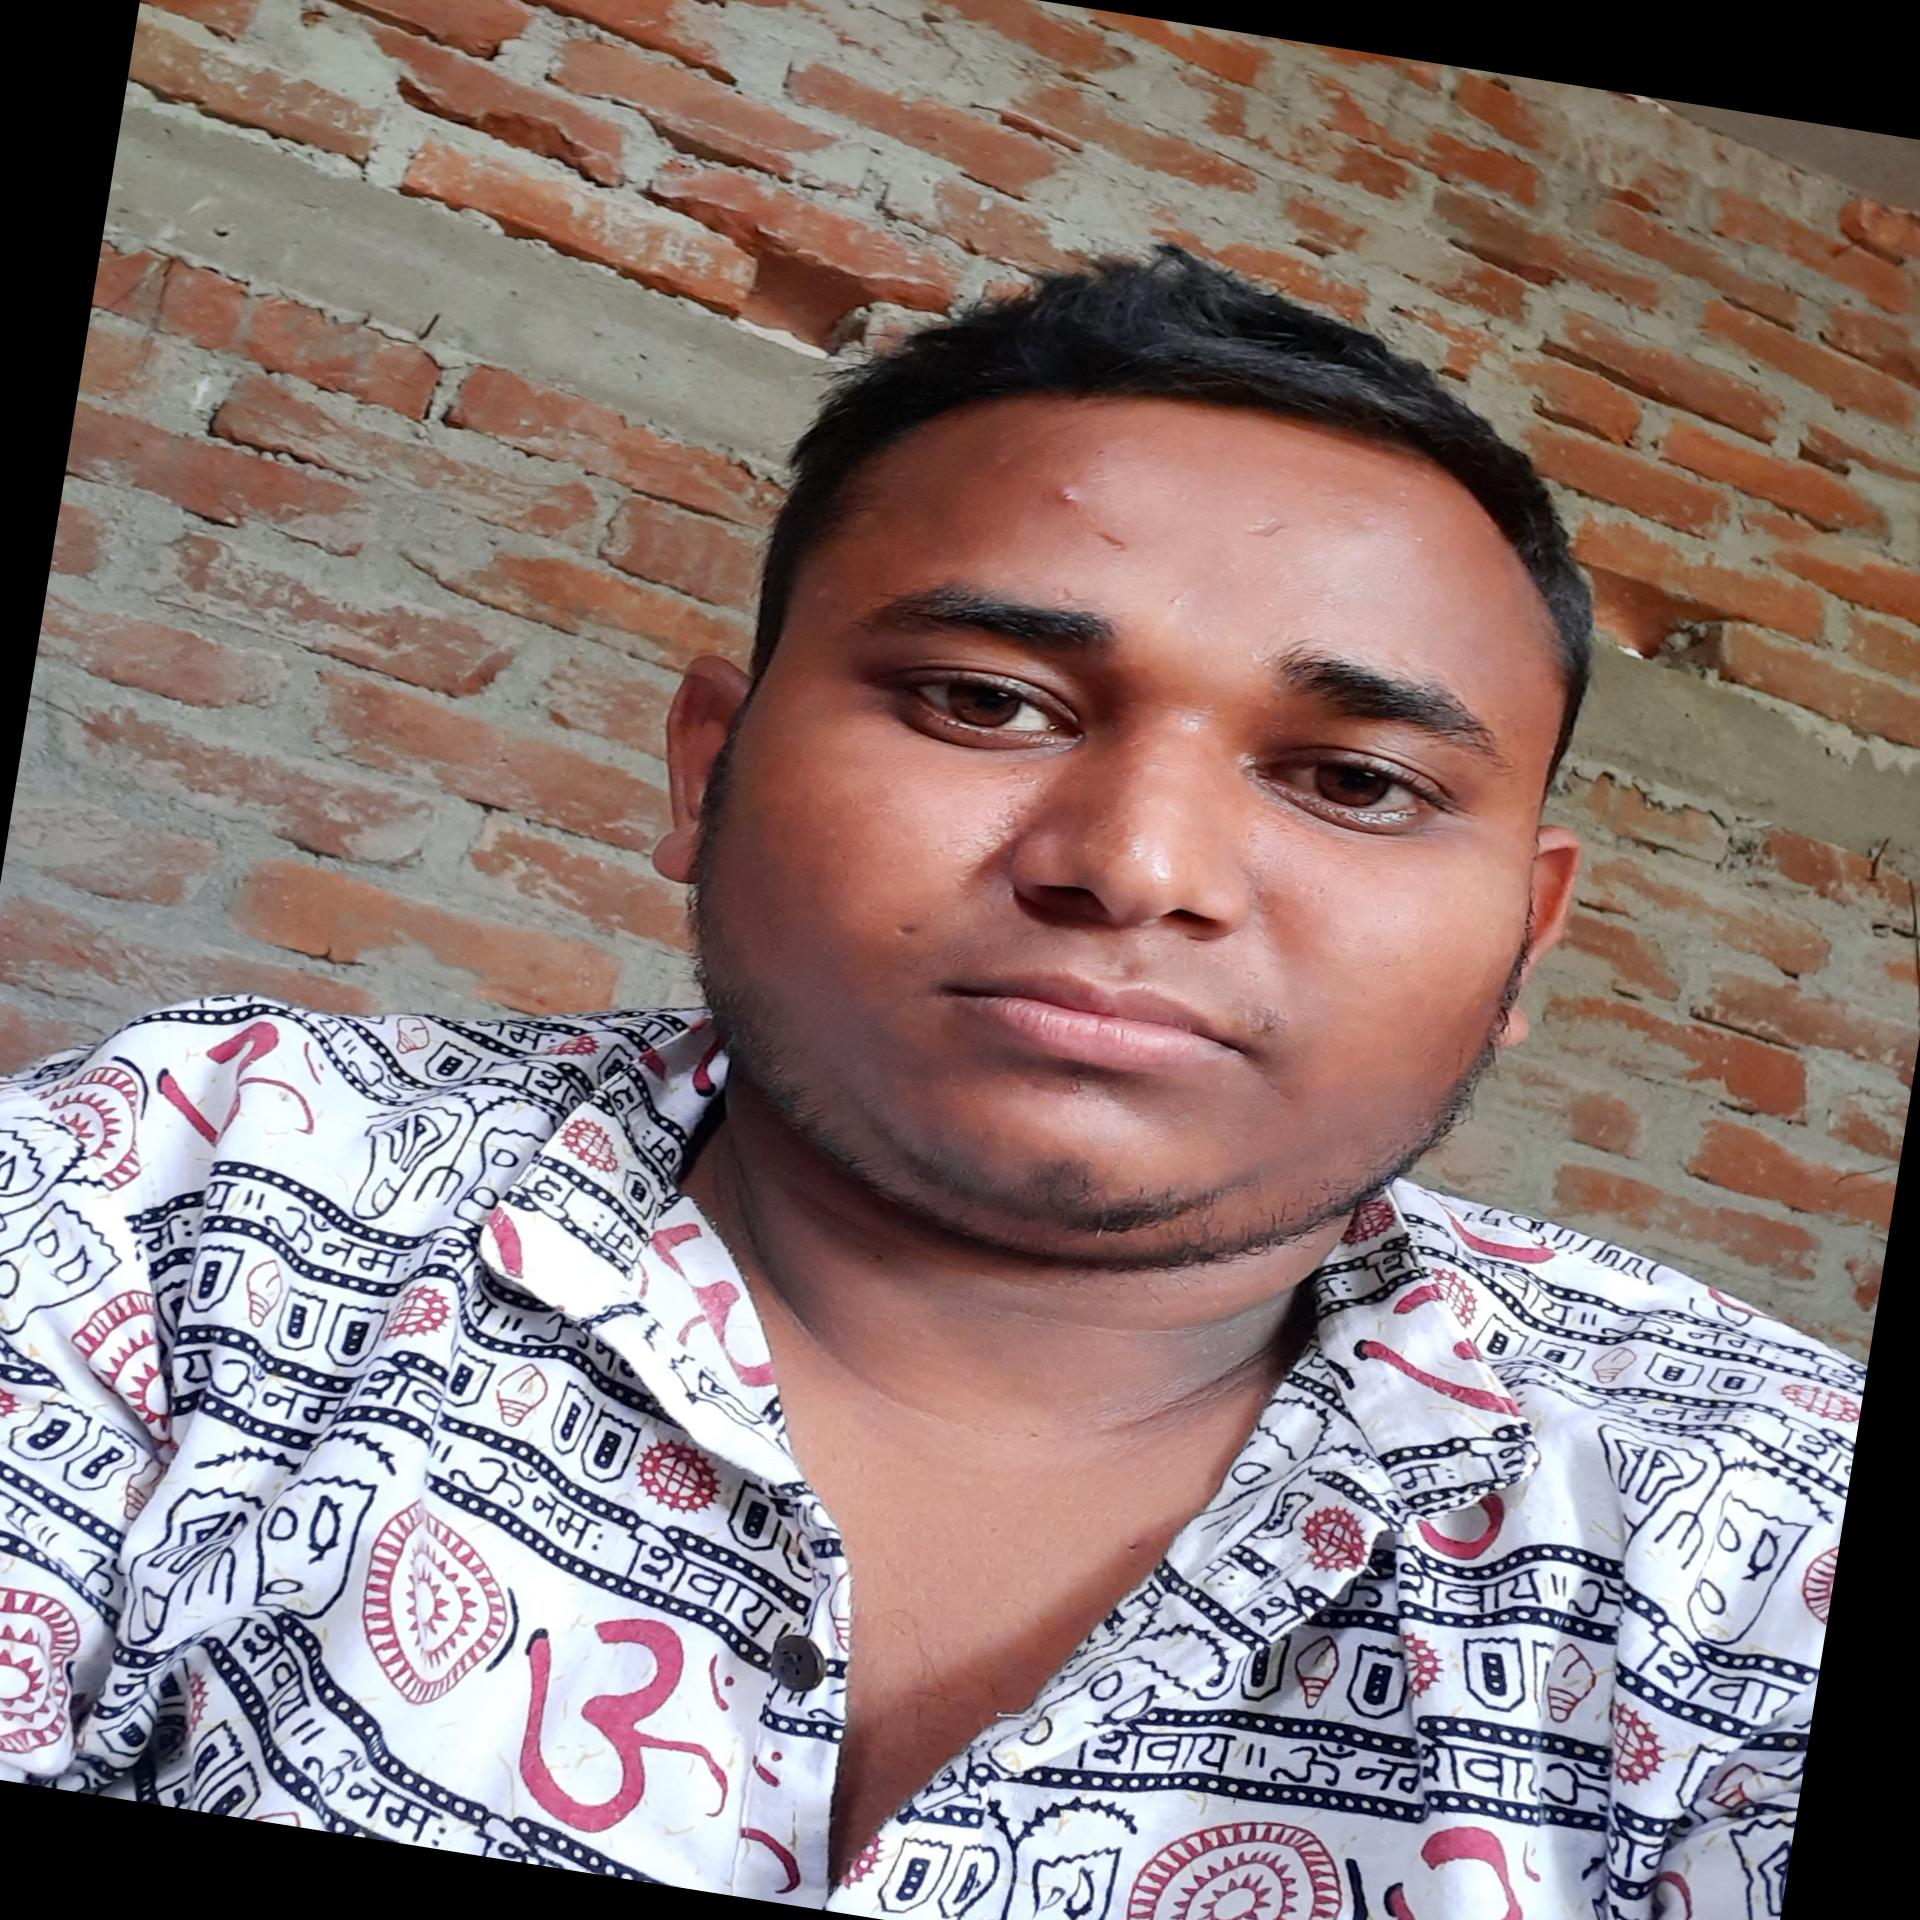Acne: (1050, 476, 1085, 508), (812, 577, 840, 607)
Englarged Pores: (1327, 900, 1445, 988), (846, 795, 927, 851)
